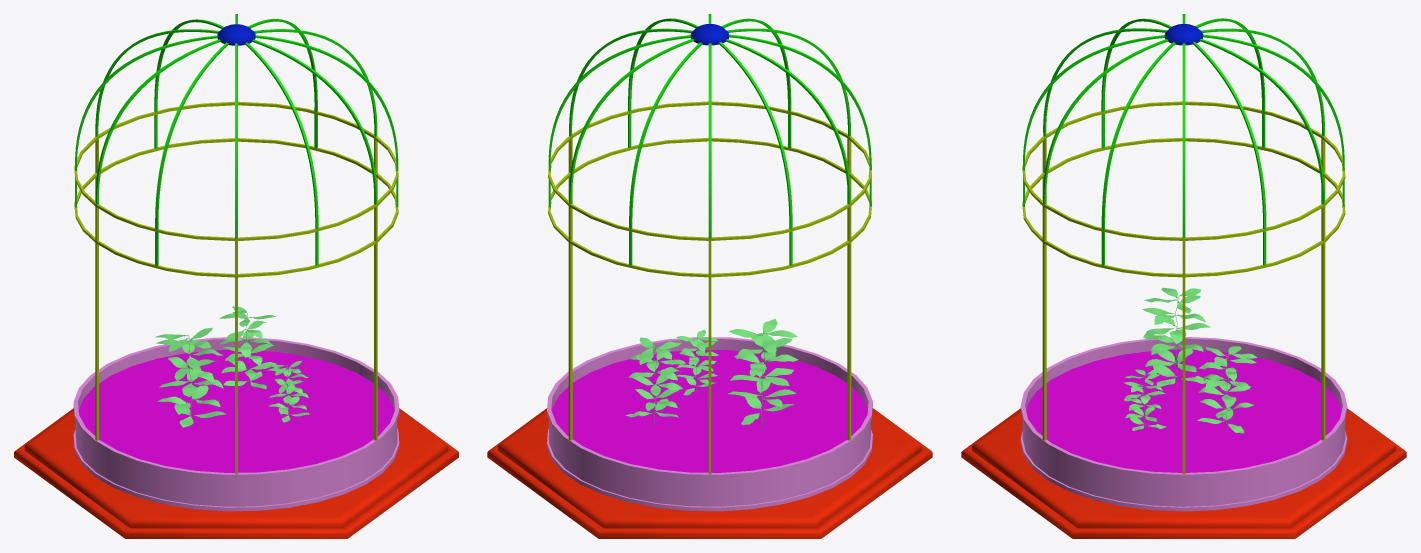
Rendered from FarmLevel1.fbx.
3 renders of one model, left to right at view 1: azimuth 30°, elevation 25°; view 2: azimuth 150°, elevation 25°; view 3: azimuth 270°, elevation 25°, orthographic.
Visible parts, largest first — view 1: Dirt, HexagonBase, Base, Roof, Body, Seaweed.002, Seaweed, Seaweed.001; view 2: Dirt, HexagonBase, Base, Body, Roof, Seaweed.002, Seaweed, Seaweed.001; view 3: Dirt, HexagonBase, Base, Body, Roof, Seaweed.002, Seaweed, Seaweed.001.
Boxes of the visible parts, x1=… form: Dirt: x1=78, y1=350, x2=394, y2=472; HexagonBase: x1=14, y1=408, x2=458, y2=538; Base: x1=73, y1=337, x2=399, y2=511; Roof: x1=75, y1=14, x2=398, y2=265; Body: x1=74, y1=101, x2=398, y2=474; Seaweed.002: x1=155, y1=327, x2=226, y2=430; Seaweed: x1=219, y1=306, x2=276, y2=392; Seaweed.001: x1=267, y1=360, x2=310, y2=422; Dirt: x1=552, y1=349, x2=867, y2=472; HexagonBase: x1=487, y1=408, x2=932, y2=538; Base: x1=547, y1=337, x2=872, y2=511; Body: x1=548, y1=101, x2=871, y2=474; Roof: x1=548, y1=14, x2=871, y2=265; Seaweed.002: x1=728, y1=318, x2=798, y2=426; Seaweed: x1=625, y1=337, x2=685, y2=424; Seaweed.001: x1=676, y1=329, x2=718, y2=395; Dirt: x1=1026, y1=349, x2=1341, y2=472; HexagonBase: x1=961, y1=408, x2=1406, y2=538; Base: x1=1020, y1=337, x2=1347, y2=511; Body: x1=1022, y1=101, x2=1345, y2=474; Roof: x1=1023, y1=14, x2=1344, y2=265; Seaweed.002: x1=1142, y1=287, x2=1210, y2=391; Seaweed: x1=1197, y1=346, x2=1256, y2=433; Seaweed.001: x1=1123, y1=369, x2=1166, y2=432.
Size of the model in its own units: 327 by 403 by 377.
